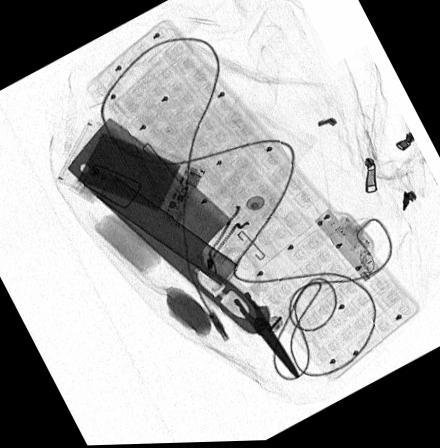Knife: (66, 115, 269, 333)
Powerbank: (55, 117, 206, 227)
Scissors: (189, 247, 302, 382)
